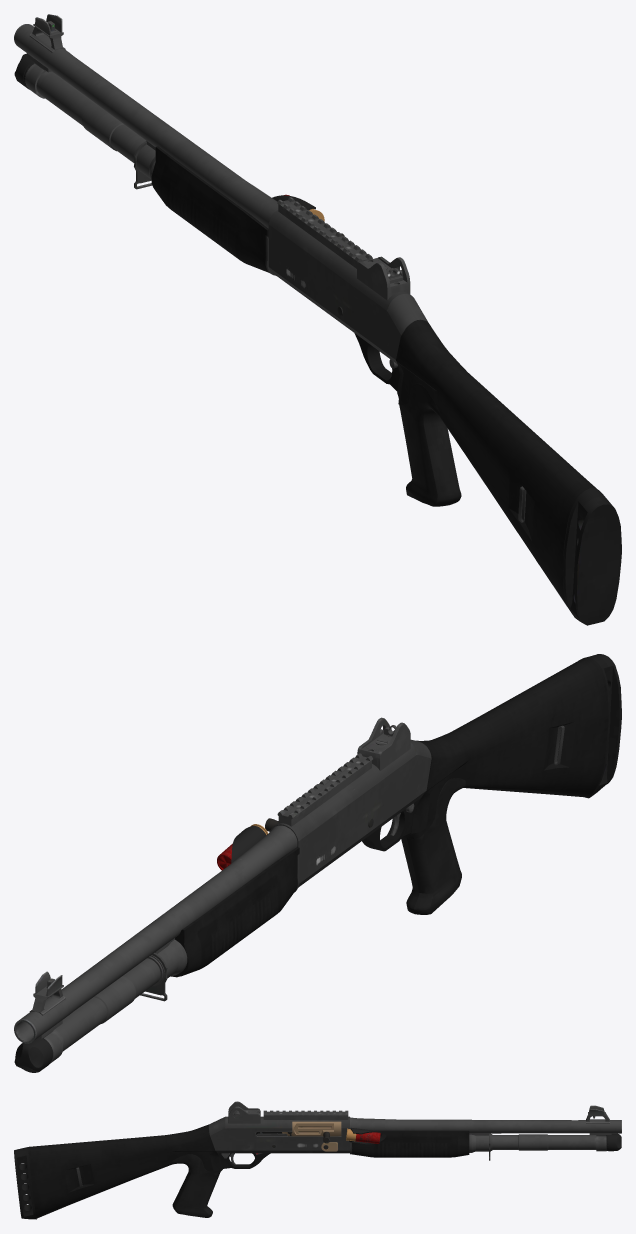
The model's file is af-shotgun.glb.
The picture shows the model from 3 angles, top to bottom: view 1: azimuth 30°, elevation 25°; view 2: azimuth 150°, elevation 25°; view 3: azimuth 270°, elevation 25°; orthographic projection. The views are drawn at different scales.
Parts seen in each view (by area): view 1: benelli_m4; view 2: benelli_m4, matchsaverz; view 3: benelli_m4, bolt, 12g, matchsaverz.
Part boxes in pixels (<box>): benelli_m4: <box>14,14,621,625</box>; benelli_m4: <box>14,654,621,1072</box>; matchsaverz: <box>231,826,266,863</box>; benelli_m4: <box>14,1101,621,1219</box>; bolt: <box>282,1121,341,1143</box>; 12g: <box>346,1128,380,1143</box>; matchsaverz: <box>349,1127,386,1144</box>.
Bounding box in the file's own units: 0.5994 × 2.02 × 9.86.
Materials: 3 (3 with a texture image).
